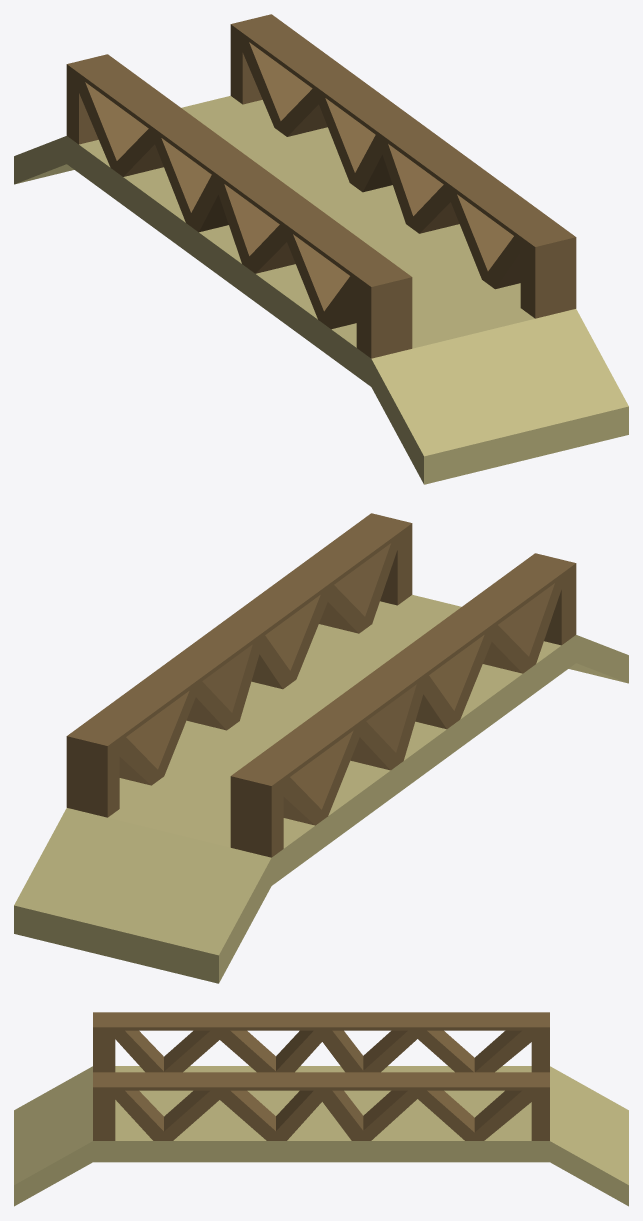
File: Bridge.fbx
The picture shows the model from 3 angles, top to bottom: view 1: azimuth 30°, elevation 25°; view 2: azimuth 150°, elevation 25°; view 3: azimuth 270°, elevation 25°; orthographic projection. The views are drawn at different scales.
Visible parts, largest first — view 1: Cube; view 2: Cube; view 3: Cube.
Boxes of the visible parts, left/top/right/bottom form: Cube: left=14, top=14, right=628, bottom=484; Cube: left=14, top=513, right=628, bottom=983; Cube: left=14, top=1012, right=628, bottom=1206.
Size of the model in its own units: 1873 by 1390 by 6494.
